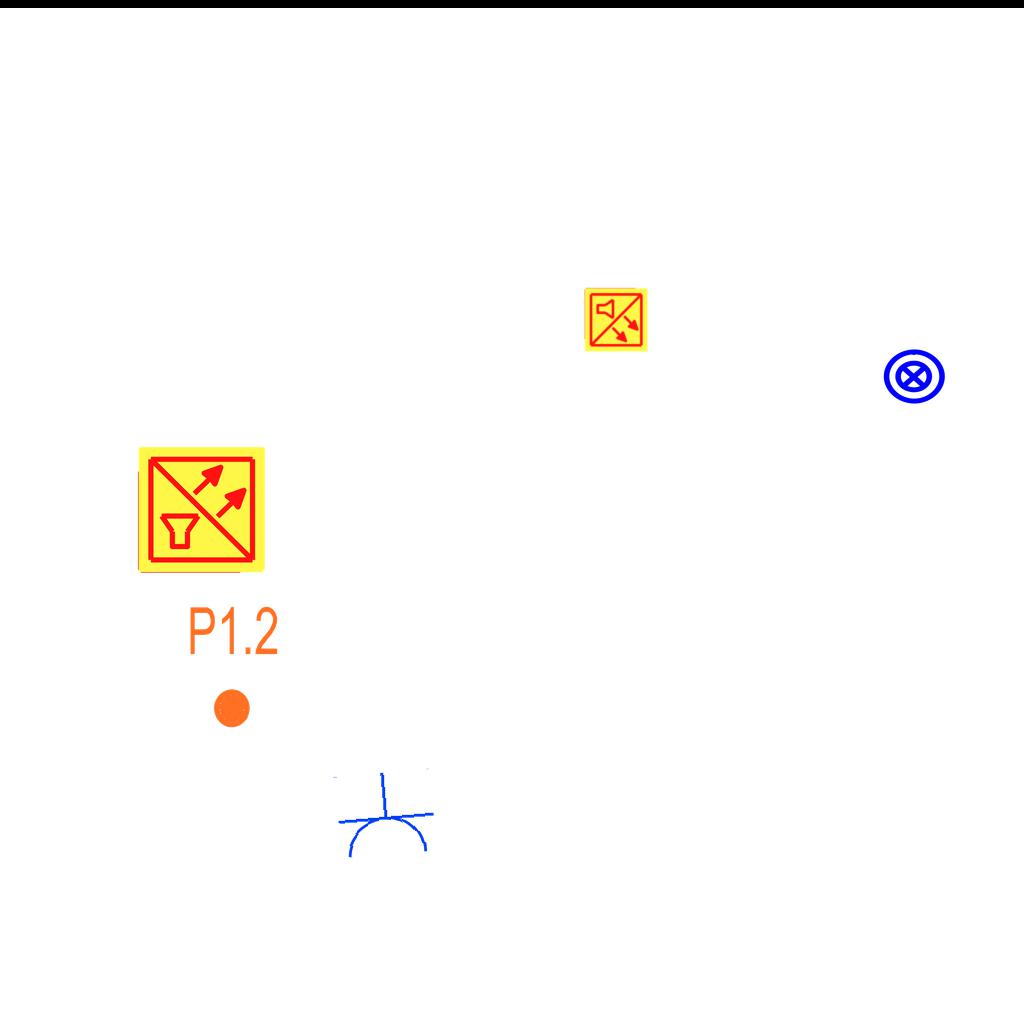Downlight_LED_Einbauleuchten_Flur: (187, 603, 280, 731)
OKW_Multisensormelder_(Kombination_optischer_Rauch-Kahlenmonoxid_Waerme-Melder): (136, 444, 268, 576), (583, 287, 649, 353)
Schukosteckdose_einfach: (331, 767, 439, 864)
Taster_beleuchtet: (881, 344, 947, 410)
